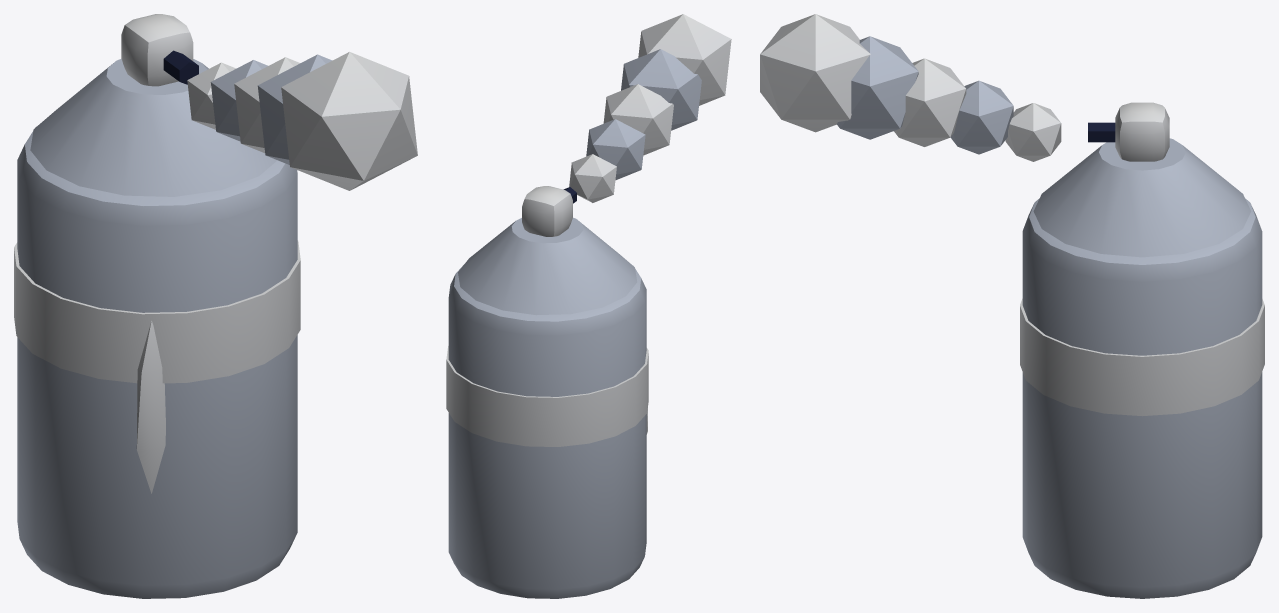
Rendered from lo_wskin_chrom.glb.
3 renders of one model, left to right at view 1: azimuth 30°, elevation 25°; view 2: azimuth 150°, elevation 25°; view 3: azimuth 270°, elevation 25°, orthographic. The views are drawn at different scales.
Visible parts, largest first — view 1: body; view 2: body; view 3: body.
Part boxes in pixels (bbox=[...]): body: bbox=[14, 14, 417, 598]; body: bbox=[446, 14, 731, 598]; body: bbox=[760, 14, 1264, 598].
Size of the model in its own units: 0.45 by 1.1 by 0.9271.
